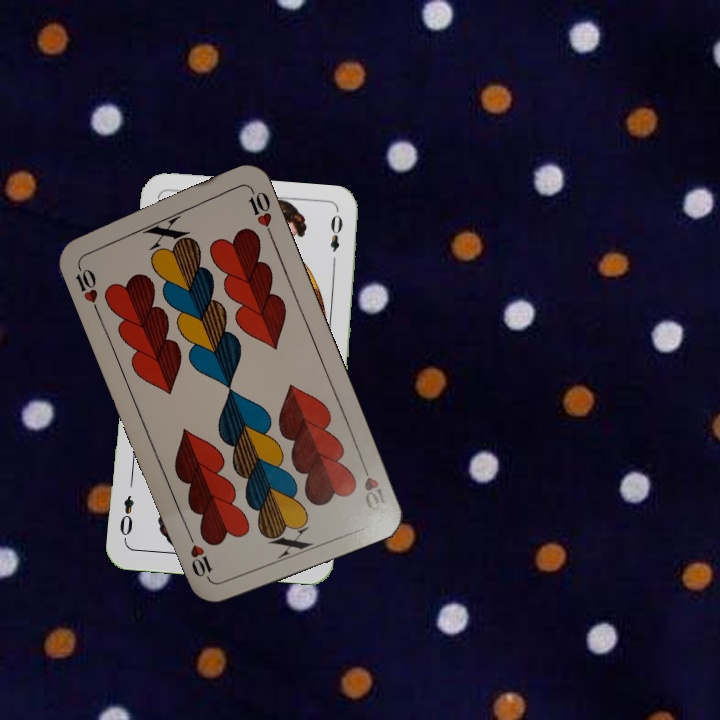H10: (356, 456, 392, 514), (71, 257, 101, 314)
